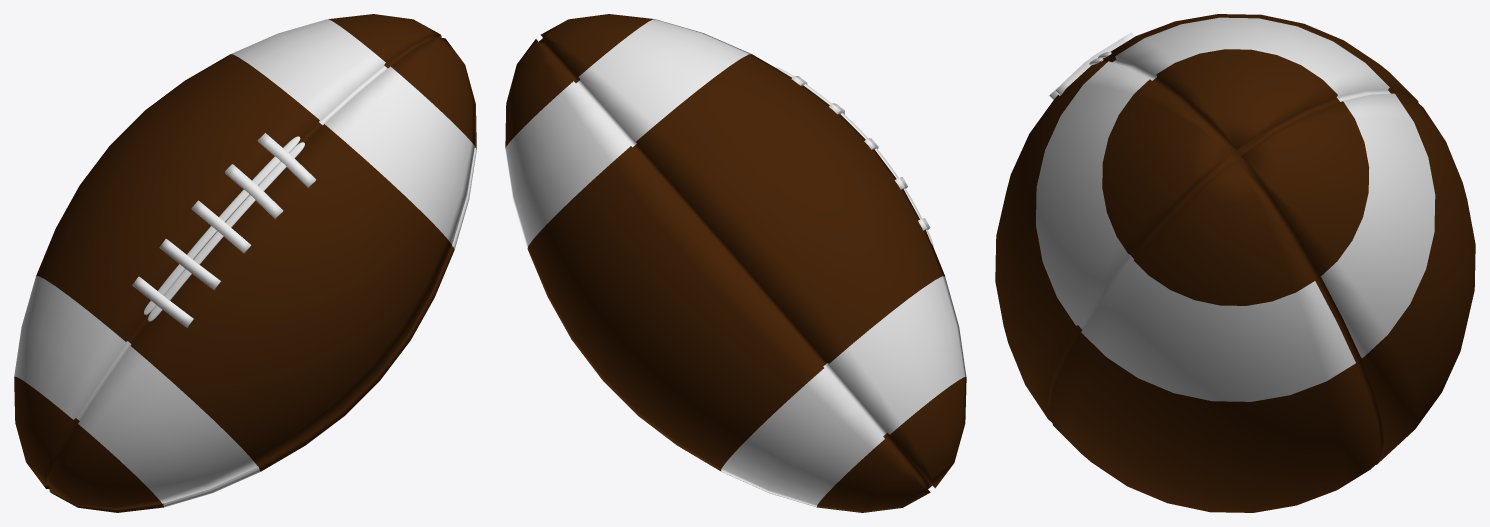
File: football.glb
3 views of the same model, side by side, from view 1: azimuth 30°, elevation 25°; view 2: azimuth 150°, elevation 25°; view 3: azimuth 270°, elevation 25° (orthographic). The views are drawn at different scales.
Visible parts, largest first — view 1: Sphere; view 2: Sphere; view 3: Sphere.
Boxes of the visible parts, x1,y1,x2,y2 form: Sphere: [14, 14, 476, 512]; Sphere: [505, 14, 966, 512]; Sphere: [995, 14, 1475, 512].
Size of the model in its own units: 2.1 by 1.93 by 1.49.
